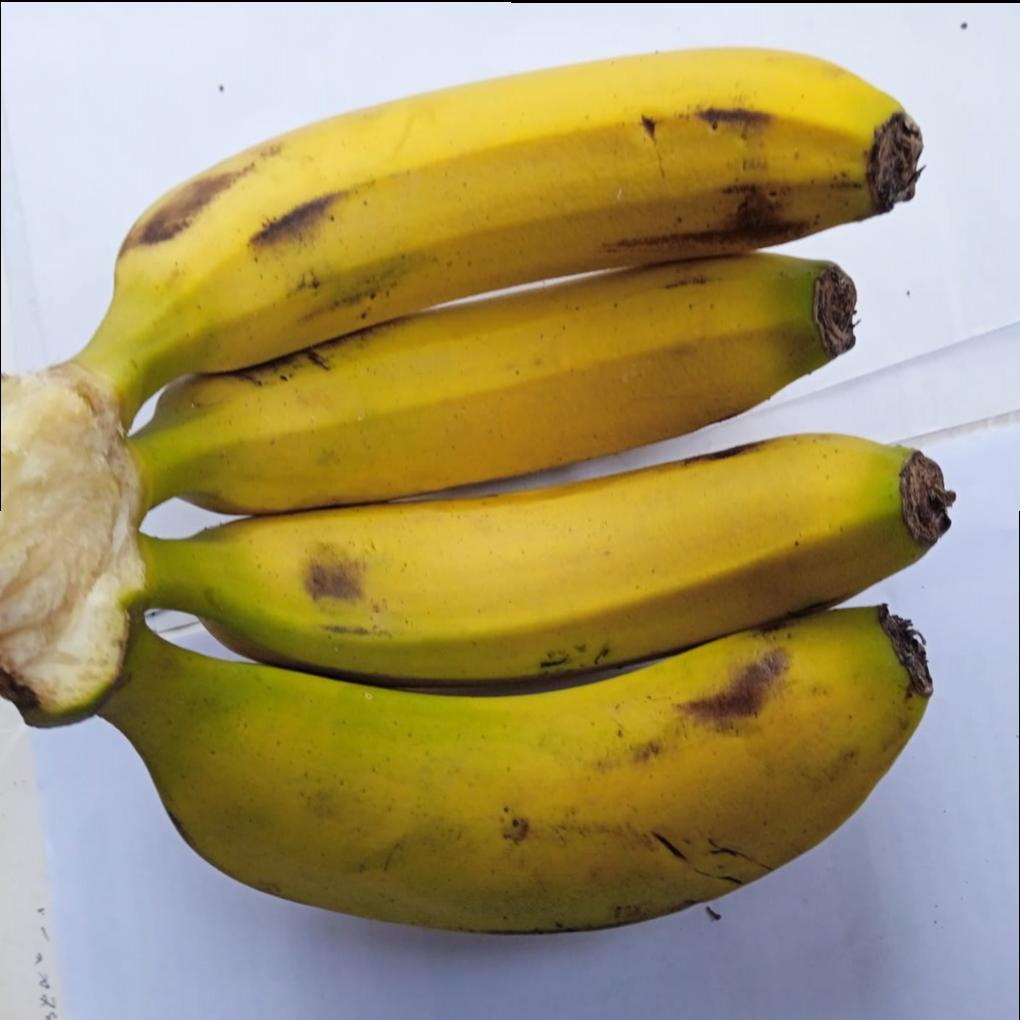Banana Ripe: (18, 44, 999, 1020), (15, 423, 1004, 971), (111, 291, 1004, 674), (109, 17, 973, 380)
